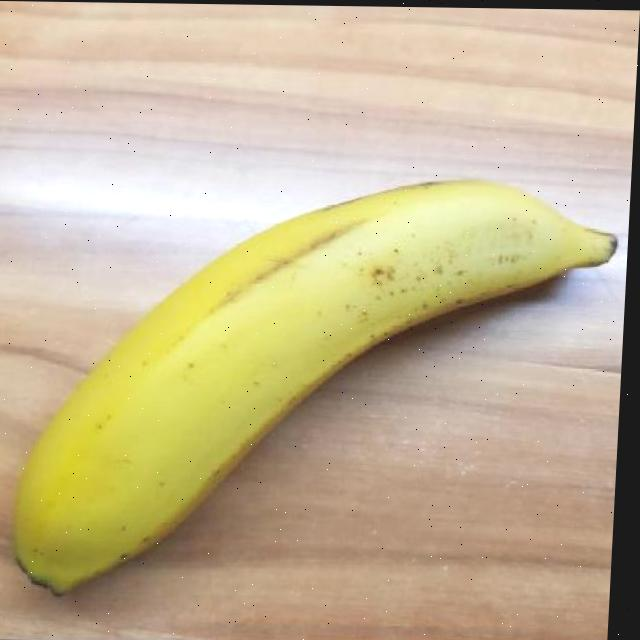banana: (1, 160, 632, 612)
